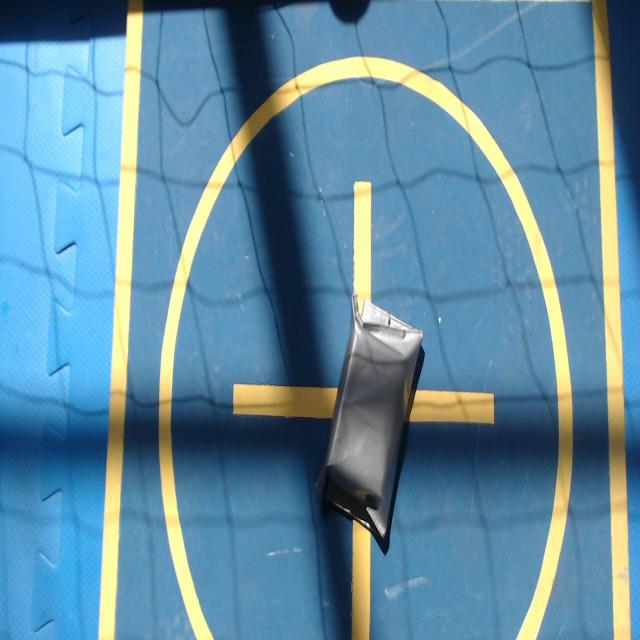direita: (318, 296, 422, 544)
